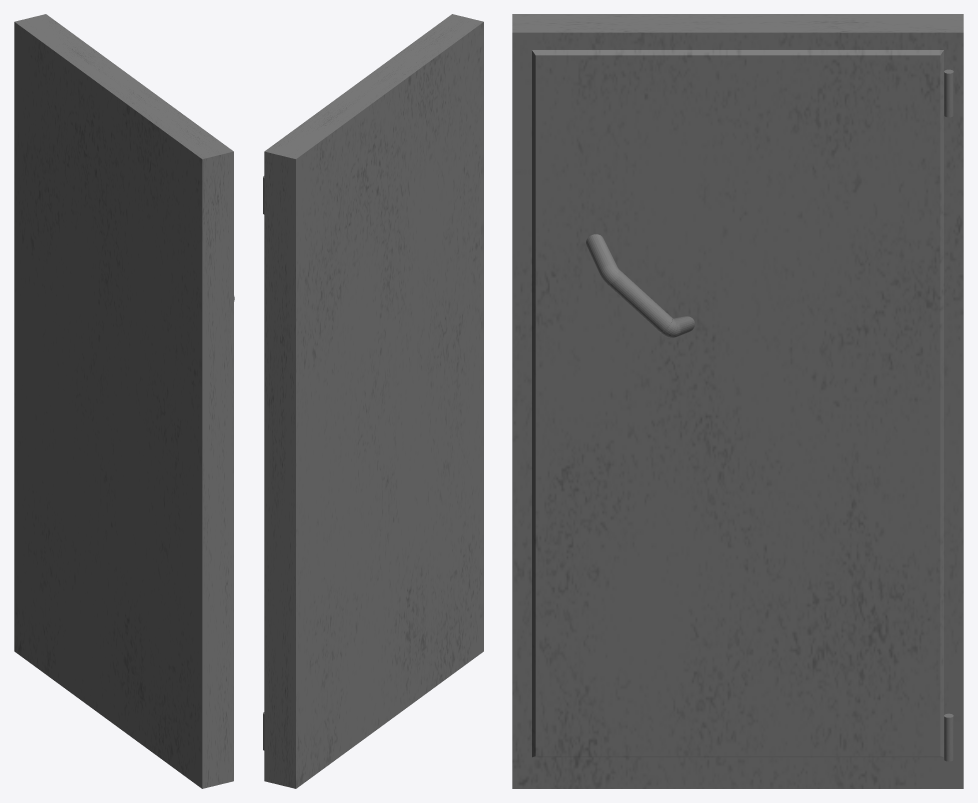
Rendered from Door_basement.fbx.
3 renders of one model, left to right at view 1: azimuth 30°, elevation 25°; view 2: azimuth 150°, elevation 25°; view 3: azimuth 270°, elevation 25°, orthographic. The views are drawn at different scales.
Parts seen in each view (by area): view 1: Entrance_door.013; view 2: Entrance_door.013; view 3: Entrance_door.013.
Part boxes in pixels (x1=…): Entrance_door.013: x1=14, y1=14, x2=234, y2=788; Entrance_door.013: x1=263, y1=14, x2=483, y2=788; Entrance_door.013: x1=512, y1=14, x2=963, y2=788.
Size of the model in its own units: 21.12 by 173 by 93.54.
